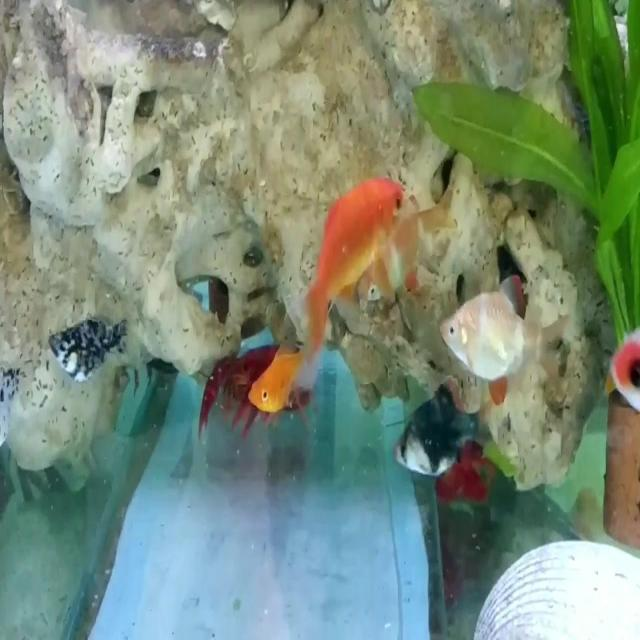GoldFish: (299, 160, 400, 364), (254, 348, 308, 414)
